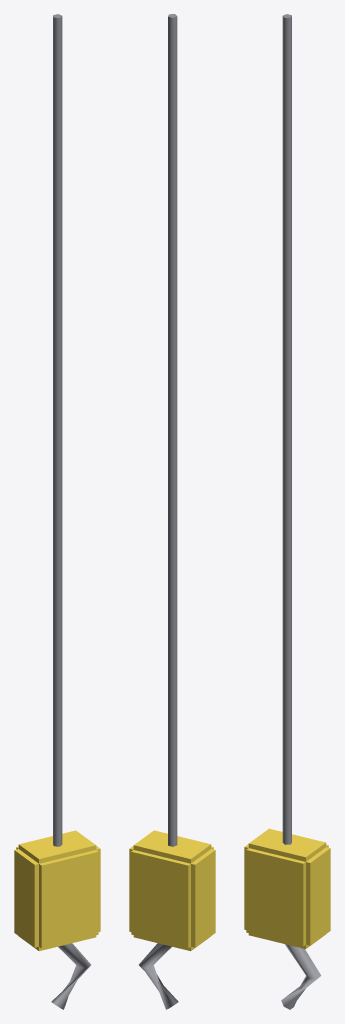
The model's file is crane_hook.glb.
The picture shows the model from 3 angles, left to right: view 1: azimuth 30°, elevation 25°; view 2: azimuth 150°, elevation 25°; view 3: azimuth 330°, elevation 25°; orthographic projection.
Parts seen in each view (by area): view 1: crane_hook; view 2: crane_hook; view 3: crane_hook.
Boxes of the visible parts, box(x1,y1,x2,y2) form: crane_hook: box(14, 14, 100, 1009); crane_hook: box(129, 14, 215, 1009); crane_hook: box(244, 14, 330, 1009).
Bounding box in the file's own units: 0.3 × 4.32 × 0.2.
